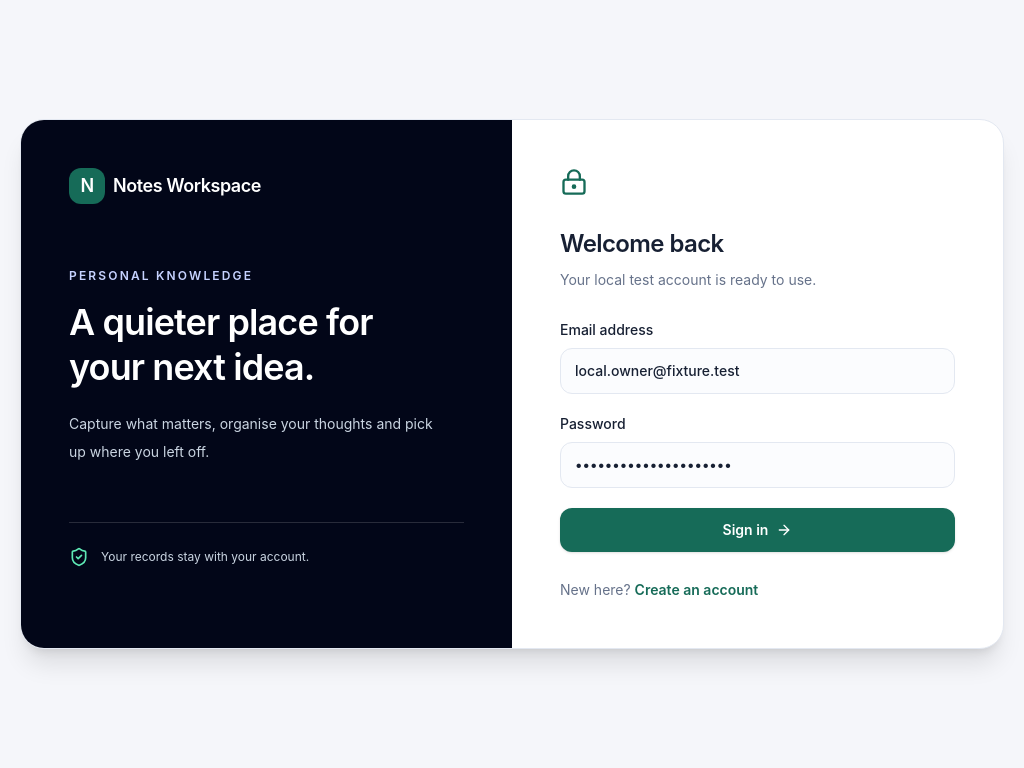
Scenario: local login is prefilled and editable, while signup starts blank
This screenshot has width=1024, height=768.
Expected: the password field labelled "Password" holds "LocalFixtureOnly#4827", [560,442,955,488]
Replace the text in the field labelled "Email address" with "another@example.test" at (758, 371), box [560,348,955,394]
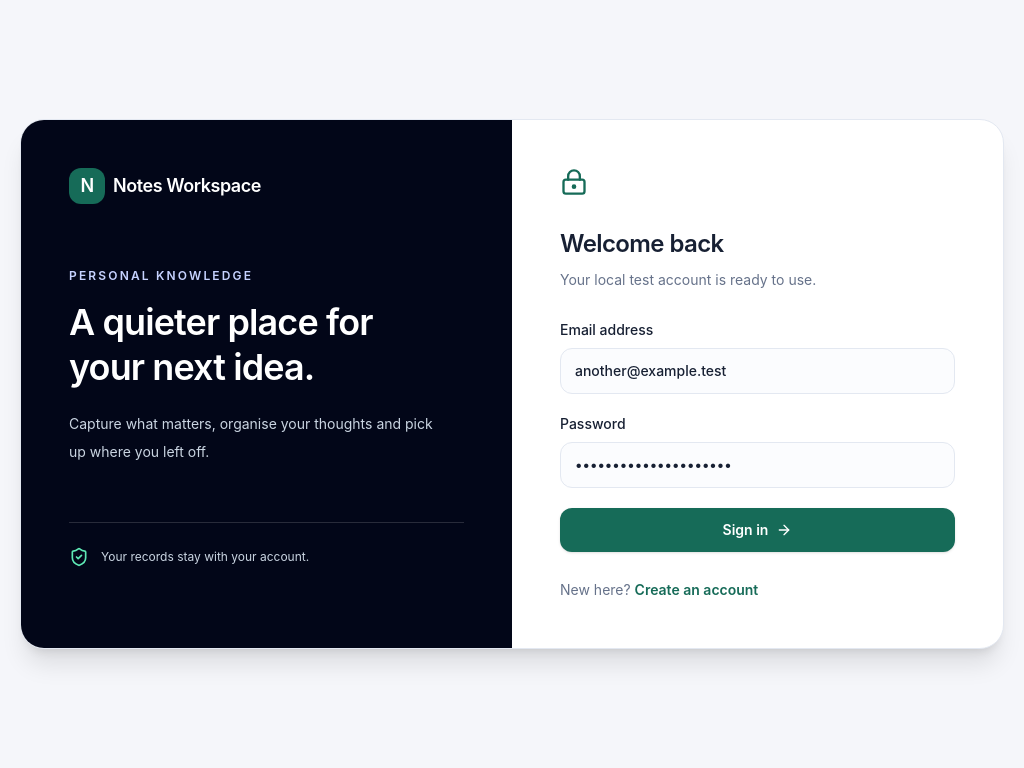
Click the button "Create an account".
click(696, 590)  # box [635,580,758,600]
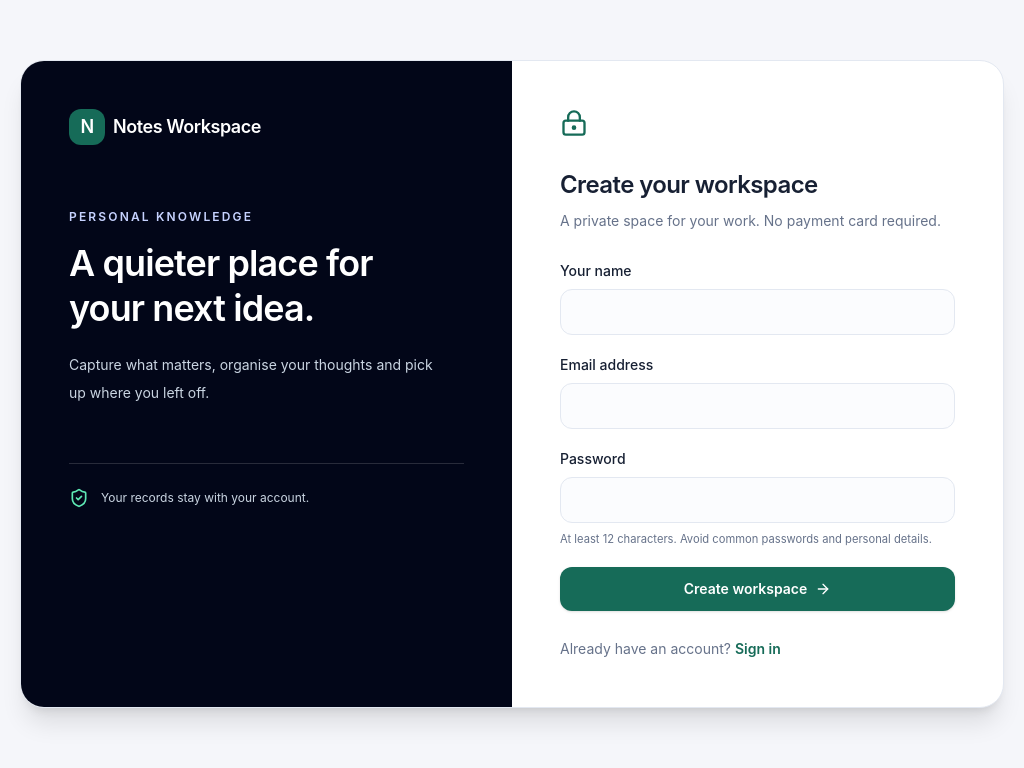
Expected: the field labelled "Email address" is empty, [560,383,955,429]
Expected: the password field labelled "Password" is empty, [560,477,955,523]
Click the button "Sign in".
click(758, 649)  # box [735,639,781,659]
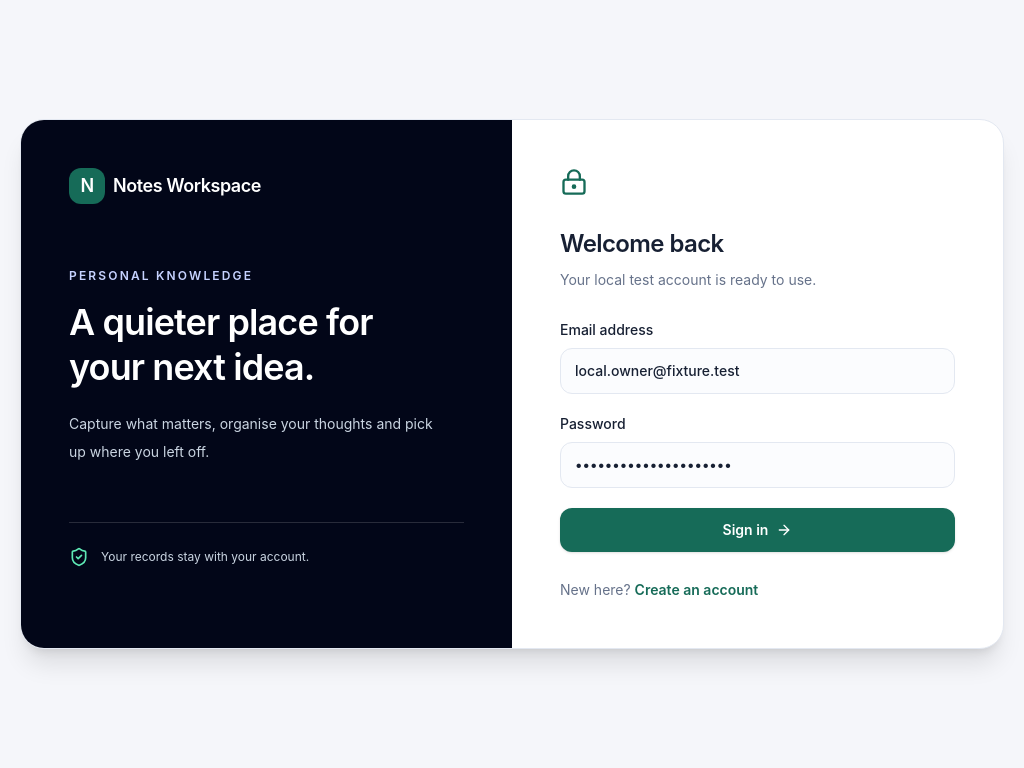
Expected: the field labelled "Email address" holds "local.owner@fixture.test", [560,348,955,394]
Expected: the password field labelled "Password" holds "LocalFixtureOnly#4827", [560,442,955,488]
